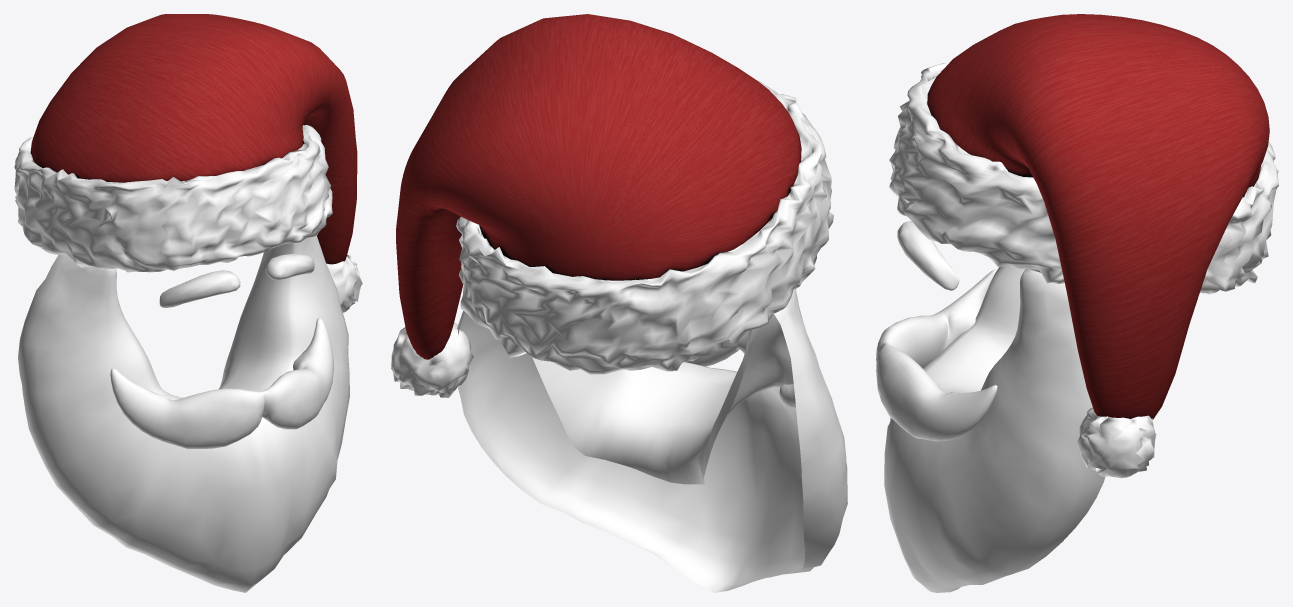
Rendered from santa_mask.glb.
The picture shows the model from 3 angles, left to right: view 1: azimuth 30°, elevation 25°; view 2: azimuth 150°, elevation 25°; view 3: azimuth 270°, elevation 25°; orthographic projection. The views are drawn at different scales.
Parts seen in each view (by area): view 1: Object_3, Object_4, Object_5, Object_2; view 2: Object_4, Object_3, Object_5, Object_2; view 3: Object_4, Object_3, Object_5, Object_2.
Boxes of the visible parts, x1,y1,x2,y2 form: Object_3: (18, 235, 349, 592); Object_4: (30, 14, 357, 264); Object_5: (14, 125, 332, 272); Object_2: (326, 254, 362, 312); Object_4: (396, 14, 801, 359); Object_3: (457, 289, 847, 592); Object_5: (456, 80, 833, 374); Object_2: (391, 322, 473, 397); Object_4: (927, 14, 1269, 419); Object_3: (876, 197, 1105, 592); Object_5: (889, 63, 1278, 294); Object_2: (1077, 407, 1156, 478).
Bounding box in the file's own units: 22.58 × 31.24 × 19.59.
4 materials, 1 textured.
